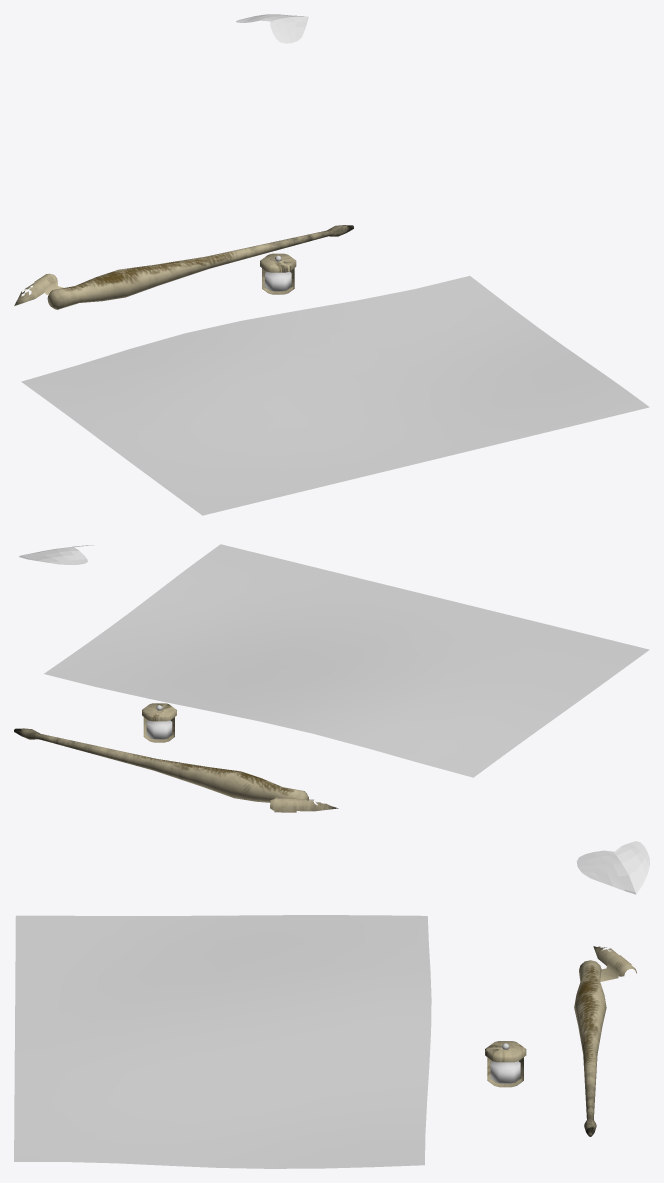
Rendered from pen.gltf.
3 renders of one model, top to bottom at view 1: azimuth 30°, elevation 25°; view 2: azimuth 150°, elevation 25°; view 3: azimuth 270°, elevation 25°, orthographic. The views are drawn at different scales.
Parts seen in each view (by area): view 1: paper, pen, Plane.041; view 2: paper, pen, Plane.041, Cylinder.002, Cylinder.001, nib; view 3: paper, pen, Plane.041, Cylinder.002, Cylinder.001.
Part boxes in pixels (x1,y1,x2,y2): paper: [21, 276, 649, 515]; pen: [47, 225, 353, 309]; Plane.041: [236, 14, 308, 43]; paper: [44, 544, 649, 777]; pen: [14, 728, 309, 802]; Plane.041: [19, 545, 93, 564]; Cylinder.002: [142, 703, 176, 721]; Cylinder.001: [146, 720, 172, 739]; nib: [270, 799, 338, 811]; paper: [14, 915, 431, 1168]; pen: [574, 960, 606, 1136]; Plane.041: [576, 841, 649, 894]; Cylinder.002: [485, 1041, 526, 1062]; Cylinder.001: [490, 1061, 520, 1083].
Size of the model in its own units: 3.64 by 1.78 by 3.95.
Materials: 2 (1 with a texture image).
